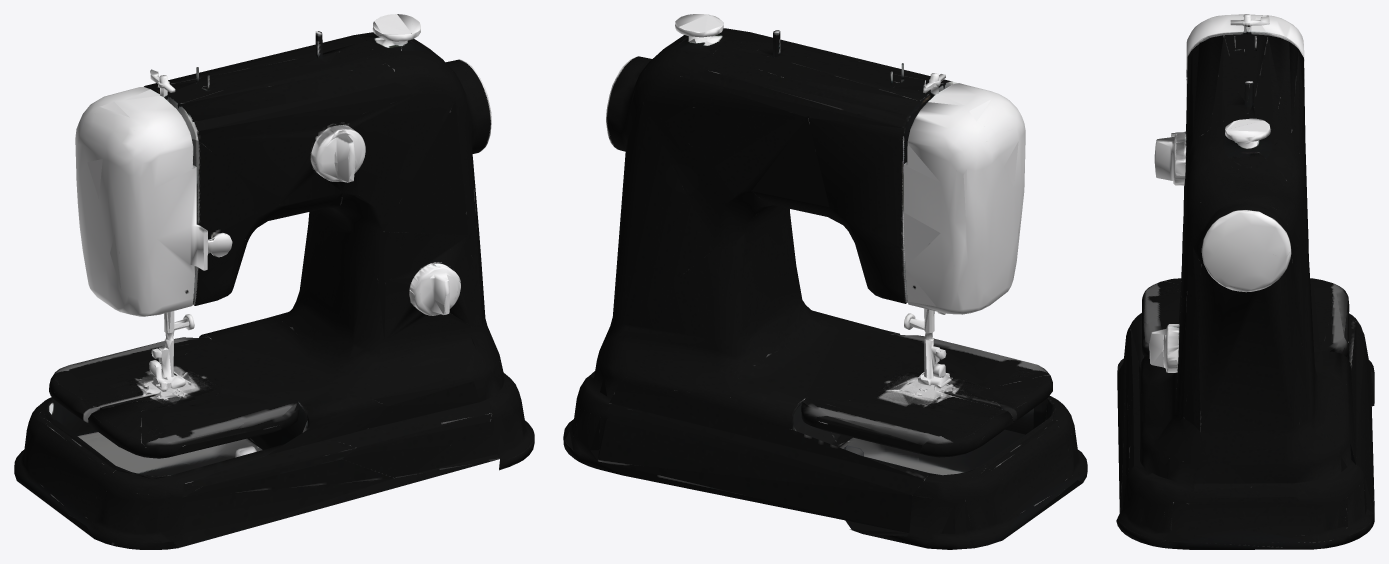
File: MachineCoudre.fbx
3 views of the same model, side by side, from view 1: azimuth 30°, elevation 25°; view 2: azimuth 150°, elevation 25°; view 3: azimuth 270°, elevation 25° (orthographic). The views are drawn at different scales.
Parts seen in each view (by area): view 1: Mesh_0; view 2: Mesh_0; view 3: Mesh_0.
Part boxes in pixels (<box>): Mesh_0: <box>14,14,534,549</box>; Mesh_0: <box>563,14,1087,549</box>; Mesh_0: <box>1116,14,1374,549</box>.
Bounding box in the file's own units: 190 × 171 × 103.
Materials: 1 (1 with a texture image).
